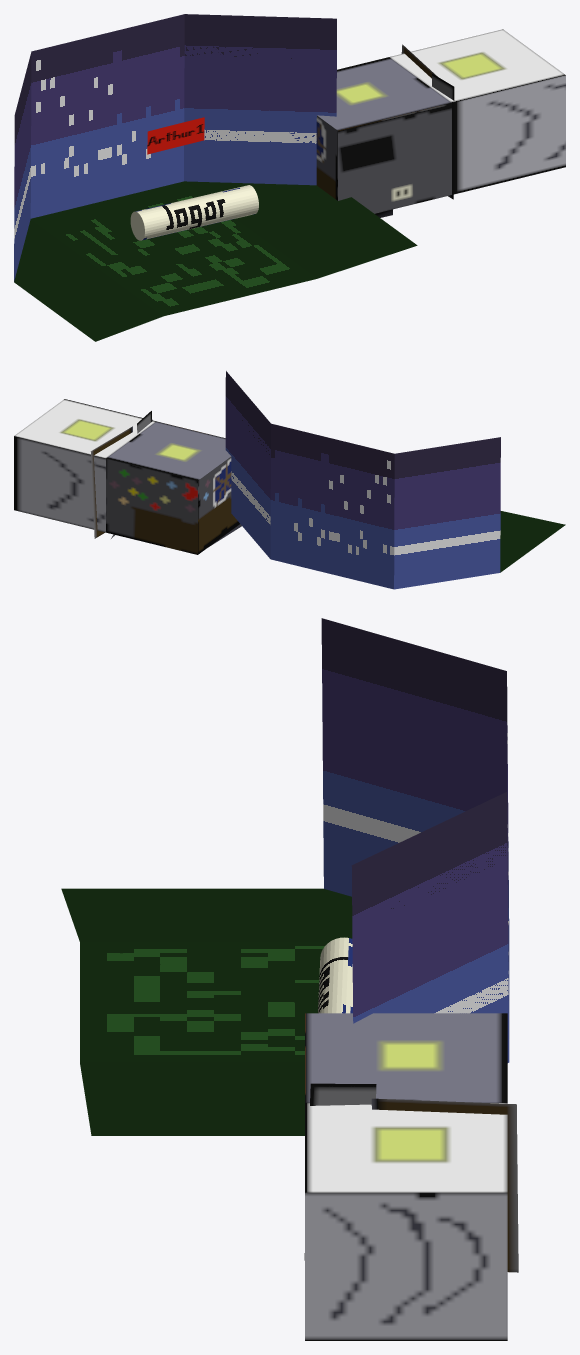
The model's file is porta-do-quarto.glb.
3 renders of one model, top to bottom at view 1: azimuth 30°, elevation 25°; view 2: azimuth 150°, elevation 25°; view 3: azimuth 270°, elevation 25°, orthographic. The views are drawn at different scales.
Parts seen in each view (by area): view 1: Plane.001, quarto, Cylinder, Plane; view 2: Plane.001, quarto, porta; view 3: Plane.001, quarto, porta, Cylinder.
Part boxes in pixels (x1,y1,x2,y2): Plane.001: (14,14,417,341); quarto: (316,29,565,217); Cylinder: (130,185,258,240); Plane: (147,117,204,154); Plane.001: (225,371,565,589); quarto: (14,399,241,554); porta: (90,426,132,538); Plane.001: (61,618,509,1135); quarto: (304,1013,507,1340); porta: (371,1098,518,1272); Cylinder: (318,937,352,1013).
Size of the model in its own units: 42.17 by 14.66 by 18.96.
Materials: 5 (5 with a texture image).
